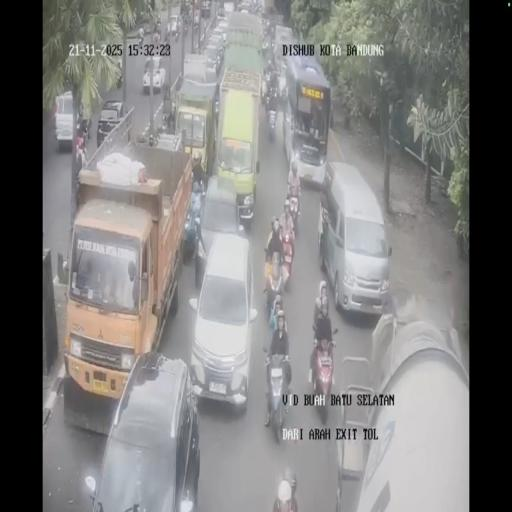car: (89, 352, 200, 508), (322, 162, 388, 316), (194, 174, 242, 284), (54, 90, 83, 150), (97, 98, 128, 148), (202, 40, 225, 81), (143, 55, 166, 93), (213, 16, 229, 44), (113, 45, 123, 80), (140, 17, 152, 36), (238, 0, 252, 13), (217, 2, 227, 19)
motorcycle: (308, 329, 339, 420), (263, 348, 292, 442), (182, 192, 199, 262), (278, 228, 295, 288), (264, 262, 284, 312), (312, 304, 334, 343), (286, 193, 300, 239), (261, 32, 276, 66), (267, 103, 277, 139), (260, 16, 270, 38), (164, 25, 172, 43), (153, 30, 161, 45), (174, 20, 180, 40), (193, 13, 199, 32), (182, 16, 188, 34), (155, 14, 161, 32), (138, 32, 144, 49)
truck: (280, 41, 332, 192), (173, 81, 216, 179), (219, 8, 264, 94), (272, 24, 295, 78), (200, 0, 212, 18)
